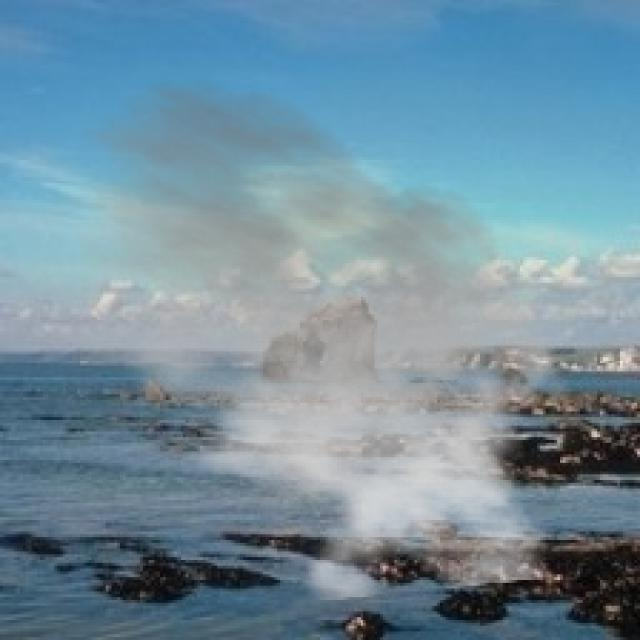smoke: (31, 74, 588, 603)
